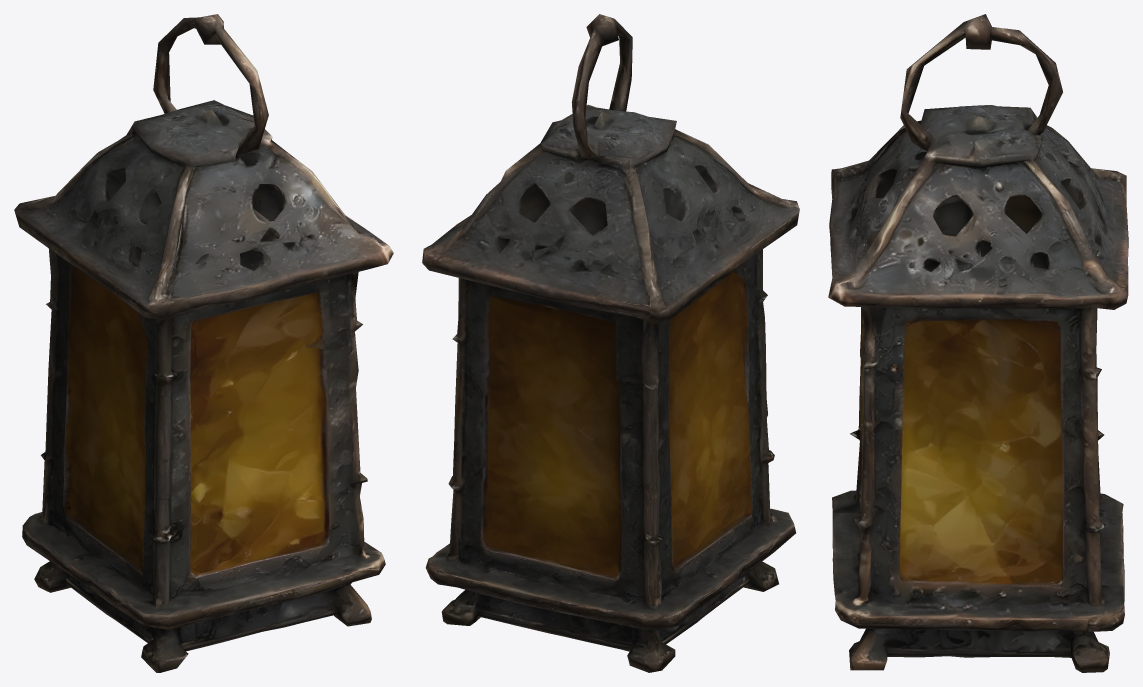
Rendered from watch_lantern.glb.
3 renders of one model, left to right at view 1: azimuth 30°, elevation 25°; view 2: azimuth 150°, elevation 25°; view 3: azimuth 270°, elevation 25°, orthographic. The views are drawn at different scales.
Parts seen in each view (by area): view 1: tripo_node_165990b4-8c05-4854-b147-12c79b3352b4; view 2: tripo_node_165990b4-8c05-4854-b147-12c79b3352b4; view 3: tripo_node_165990b4-8c05-4854-b147-12c79b3352b4.
Boxes of the visible parts, bbox=[...] form: tripo_node_165990b4-8c05-4854-b147-12c79b3352b4: bbox=[14, 14, 393, 672]; tripo_node_165990b4-8c05-4854-b147-12c79b3352b4: bbox=[422, 14, 799, 672]; tripo_node_165990b4-8c05-4854-b147-12c79b3352b4: bbox=[828, 14, 1128, 672].
Bounding box in the file's own units: 0.4314 × 0.9795 × 0.4412.
Materials: 1 (1 with a texture image).
